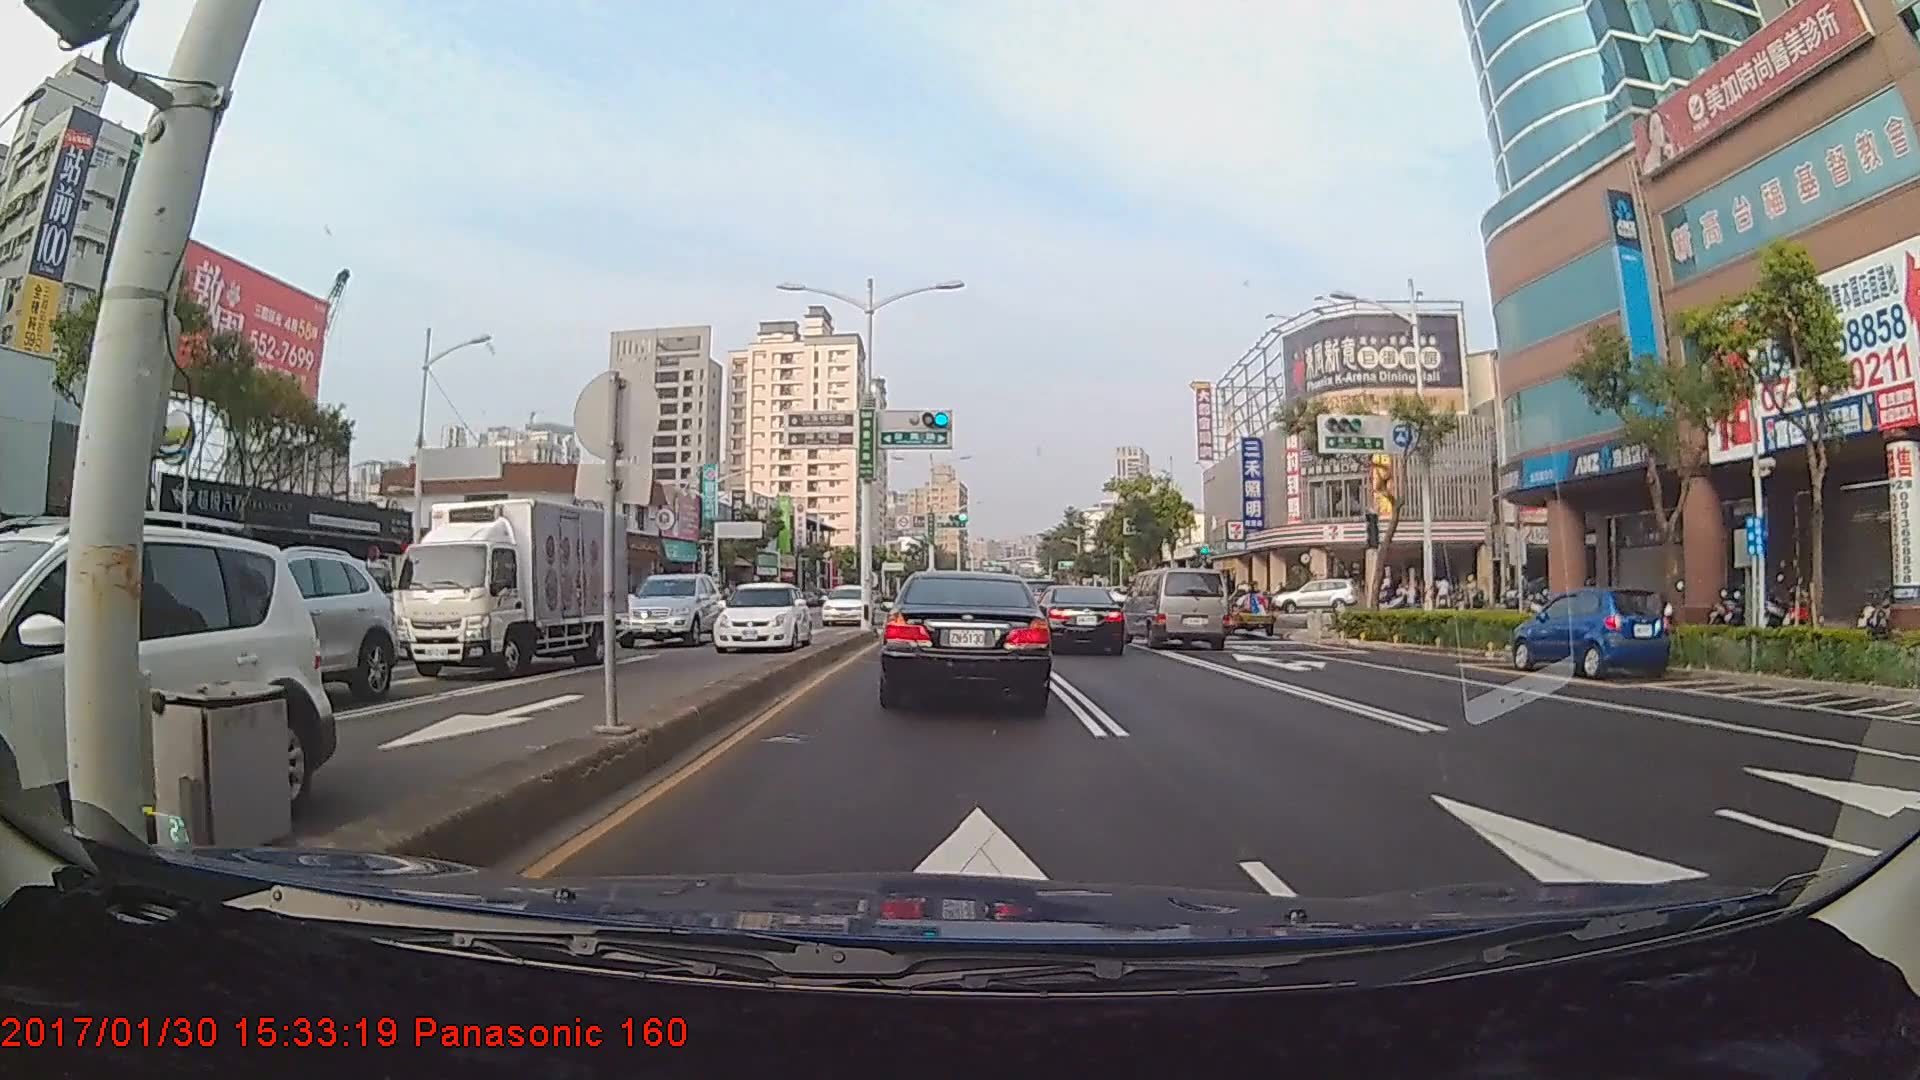vehicle: (0, 525, 318, 872), (384, 492, 630, 679), (138, 541, 390, 705), (884, 567, 1052, 711), (1513, 585, 1665, 679), (604, 566, 717, 646), (1124, 567, 1228, 651), (712, 578, 814, 651), (1040, 584, 1126, 655), (1271, 578, 1354, 612), (818, 582, 869, 625)
